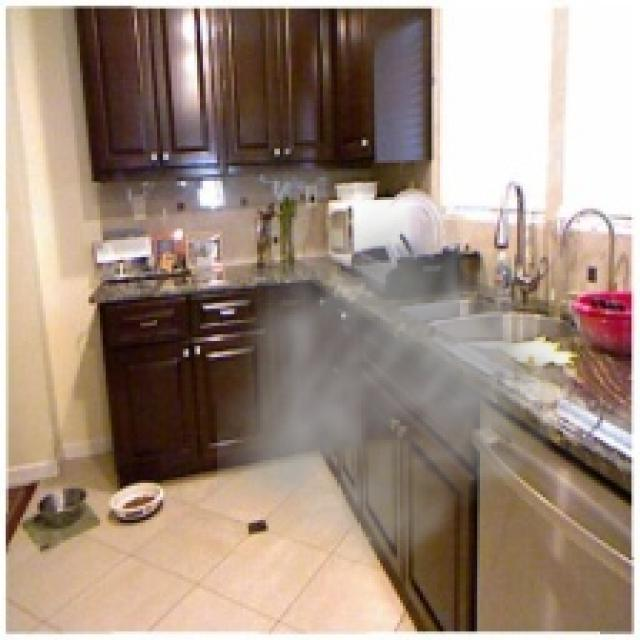Smoke: (217, 188, 609, 588)
